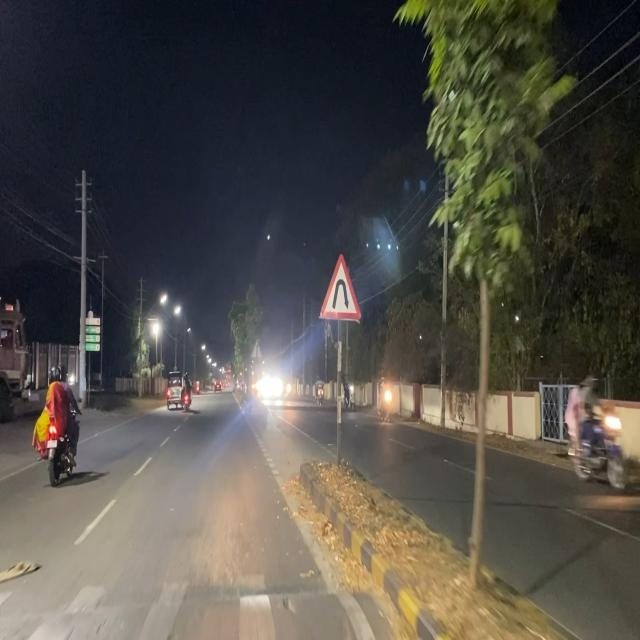bien_nguy_hiem: (319, 251, 363, 325)
